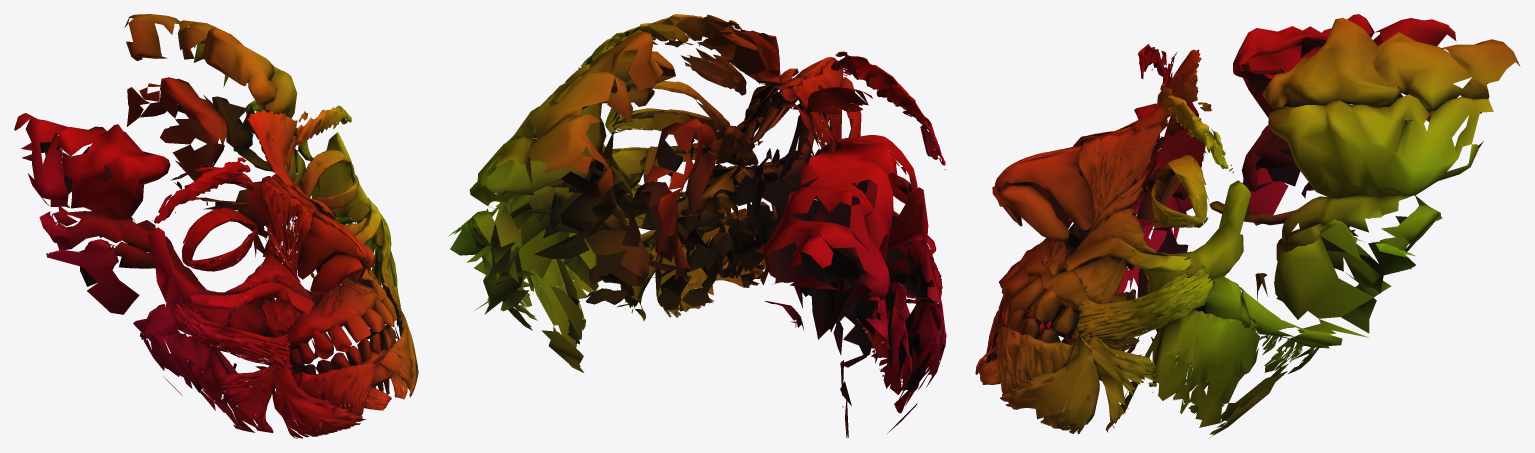
The model's file is zeometry-organic-forms-skull-mask_v1.glb.
3 views of the same model, side by side, from view 1: azimuth 30°, elevation 25°; view 2: azimuth 150°, elevation 25°; view 3: azimuth 270°, elevation 25° (orthographic). The views are drawn at different scales.
Visible parts, largest first — view 1: Skull Mask; view 2: Skull Mask; view 3: Skull Mask.
Boxes of the visible parts, box(x1,y1,x2,y2) form: Skull Mask: box(14, 14, 418, 438); Skull Mask: box(448, 14, 946, 438); Skull Mask: box(975, 14, 1520, 438).
Bounding box in the file's own units: 0.3864 × 0.3905 × 0.5.
